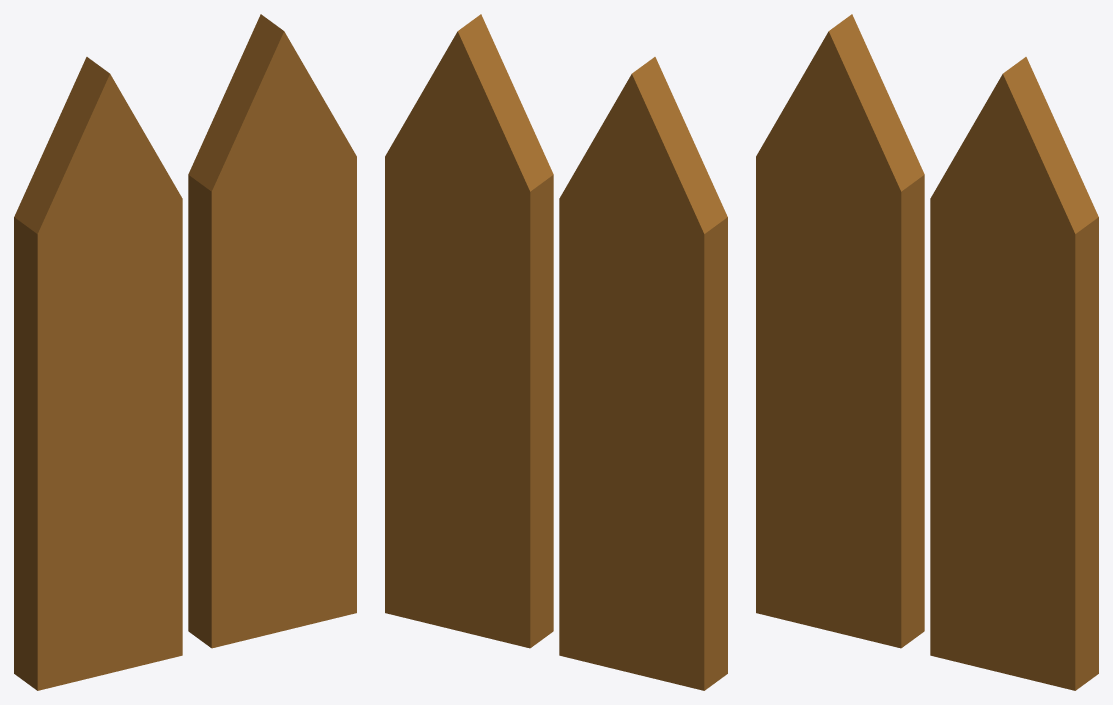
File: Fence2.fbx
3 renders of one model, left to right at view 1: azimuth 30°, elevation 25°; view 2: azimuth 150°, elevation 25°; view 3: azimuth 330°, elevation 25°, orthographic.
Visible parts, largest first — view 1: Fence2; view 2: Fence2; view 3: Fence2.
Boxes of the visible parts, bbox=[...] form: Fence2: bbox=[14, 14, 356, 690]; Fence2: bbox=[385, 14, 727, 690]; Fence2: bbox=[756, 14, 1098, 690].
Bounding box in the file's own units: 48.49 × 87.04 × 6.17.
